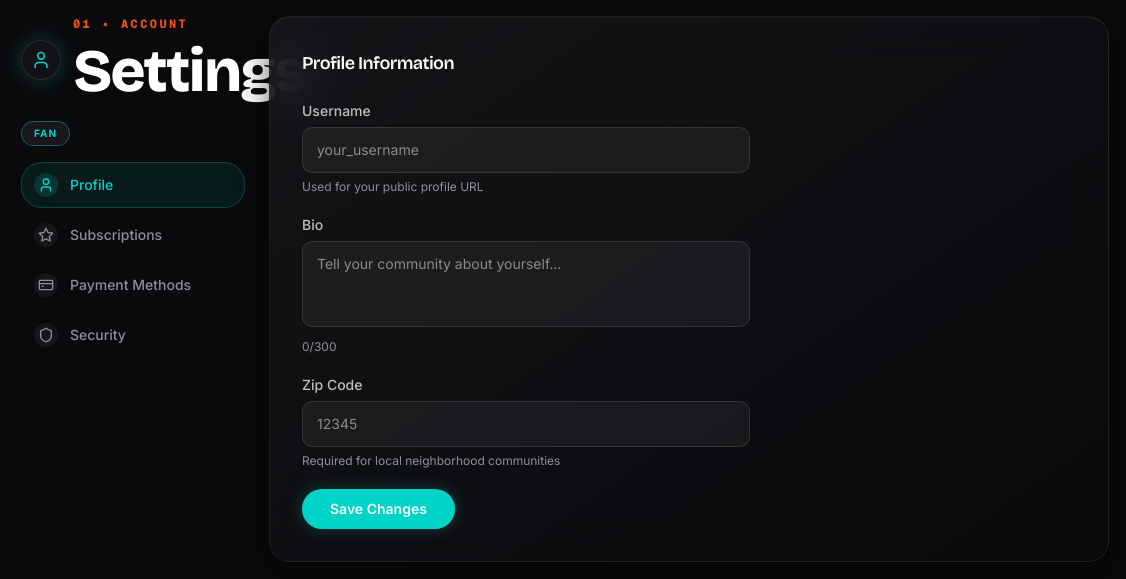
Test: SettingsView Payment Tab & Add Card Modal › navigates to Payment Methods tab and renders Add Card button
Click the button "Payment Methods": (133, 285) top-left (21, 262), bottom-right (245, 308)
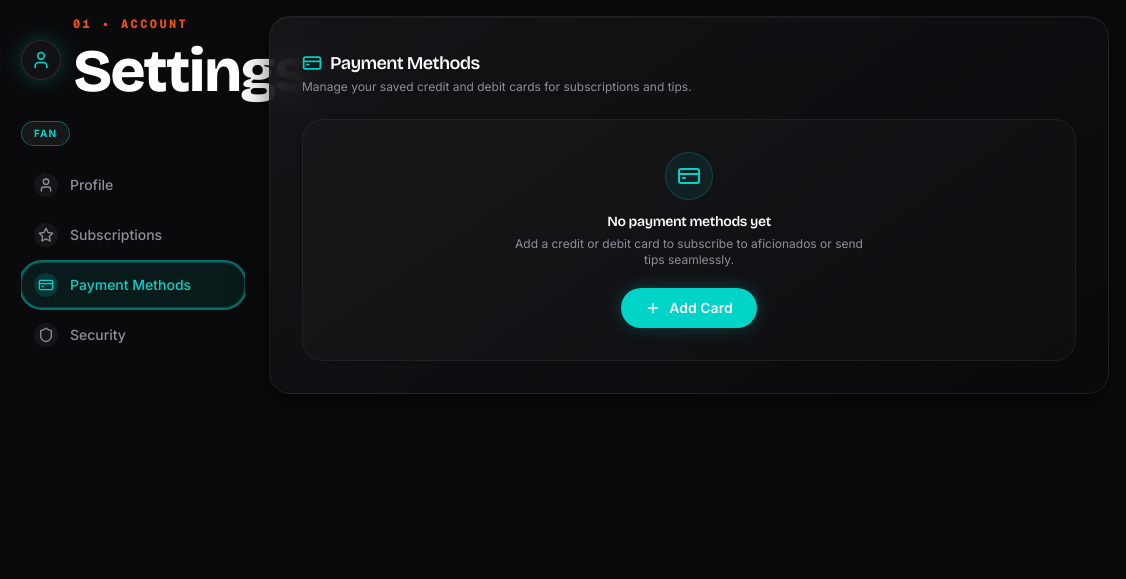
Check: the heading "No payment methods yet" is shown, box top-left (607, 213), bottom-right (771, 230)
Check: the button "Add Card" is shown, box top-left (621, 288), bottom-right (757, 328)
